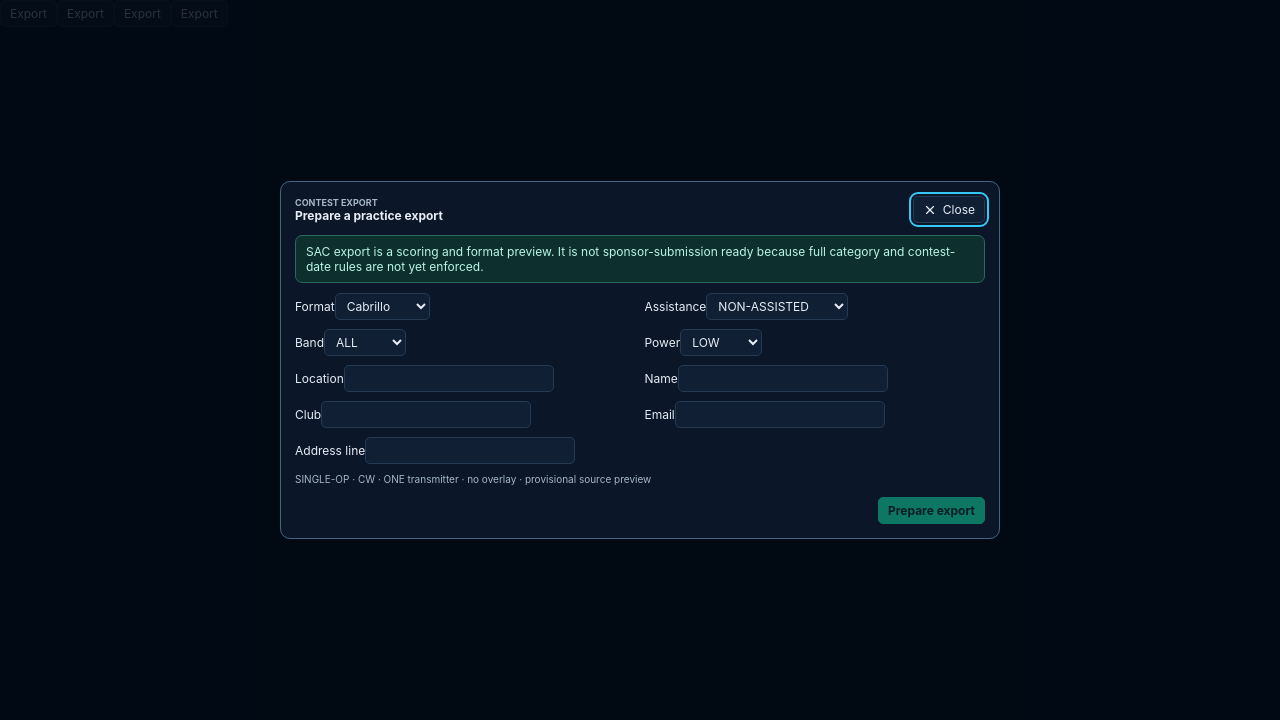
Test case: keeps SAC Cabrillo output visibly practice-only before and after preparation
Check: the heading "Prepare a practice export" is shown, box [295,208,443,222]
Check: the text "not sponsor-submission ready" is shown, box [306,244,955,274]
Type "DX" into the field labelled "Location" at (449, 378), box [344,365,554,392]
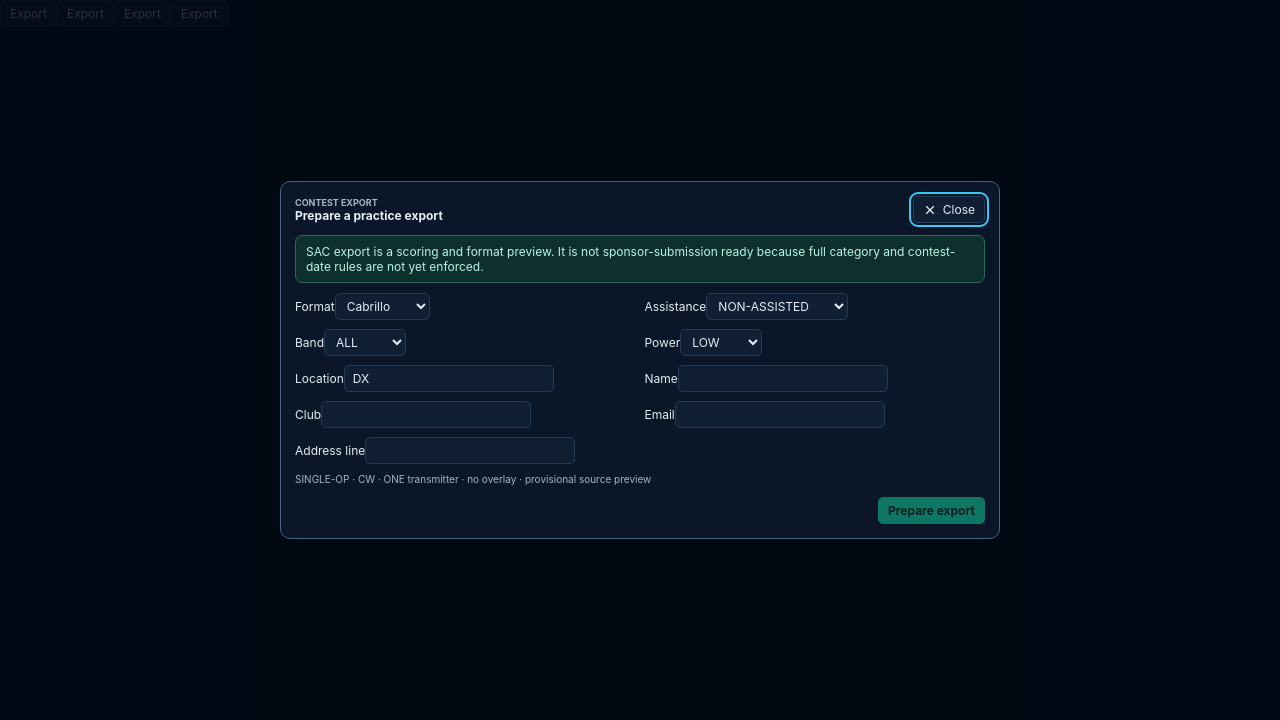
Type "Operator" into the field labelled "Name" at (783, 378), box [678,365,888,392]
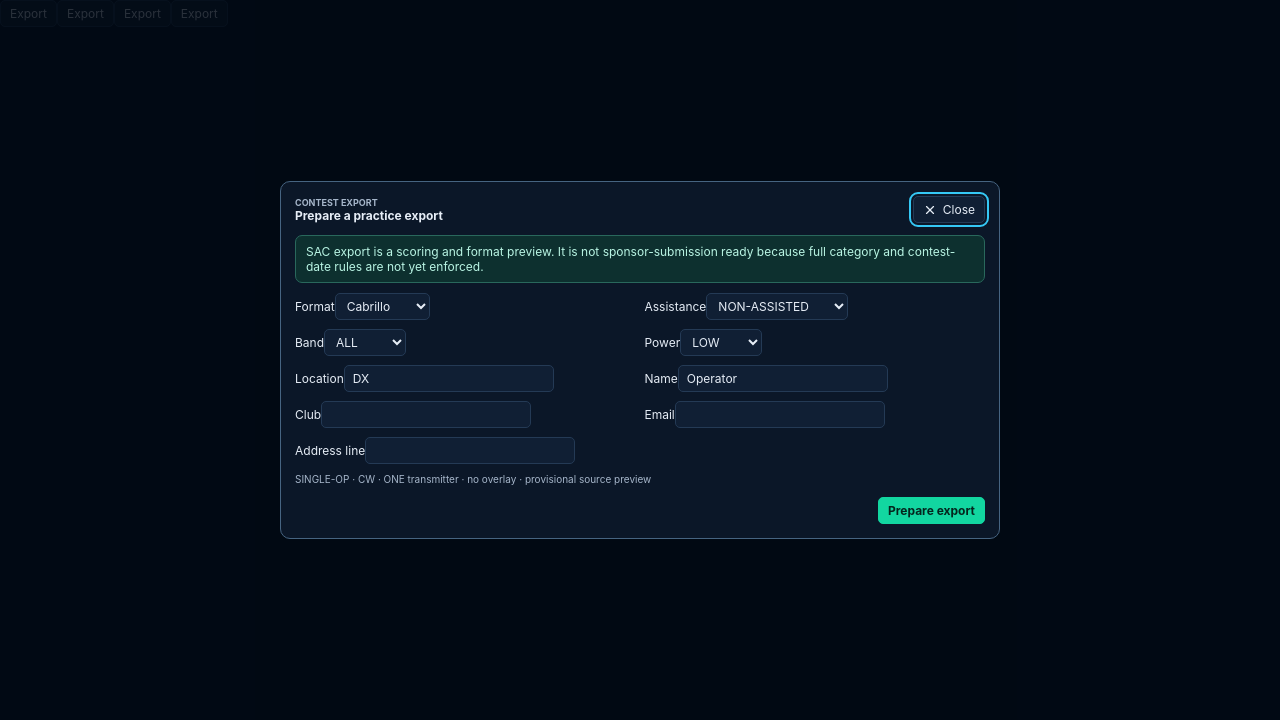
Click the button "Prepare export" at (931, 510), box [878,497,985,524]
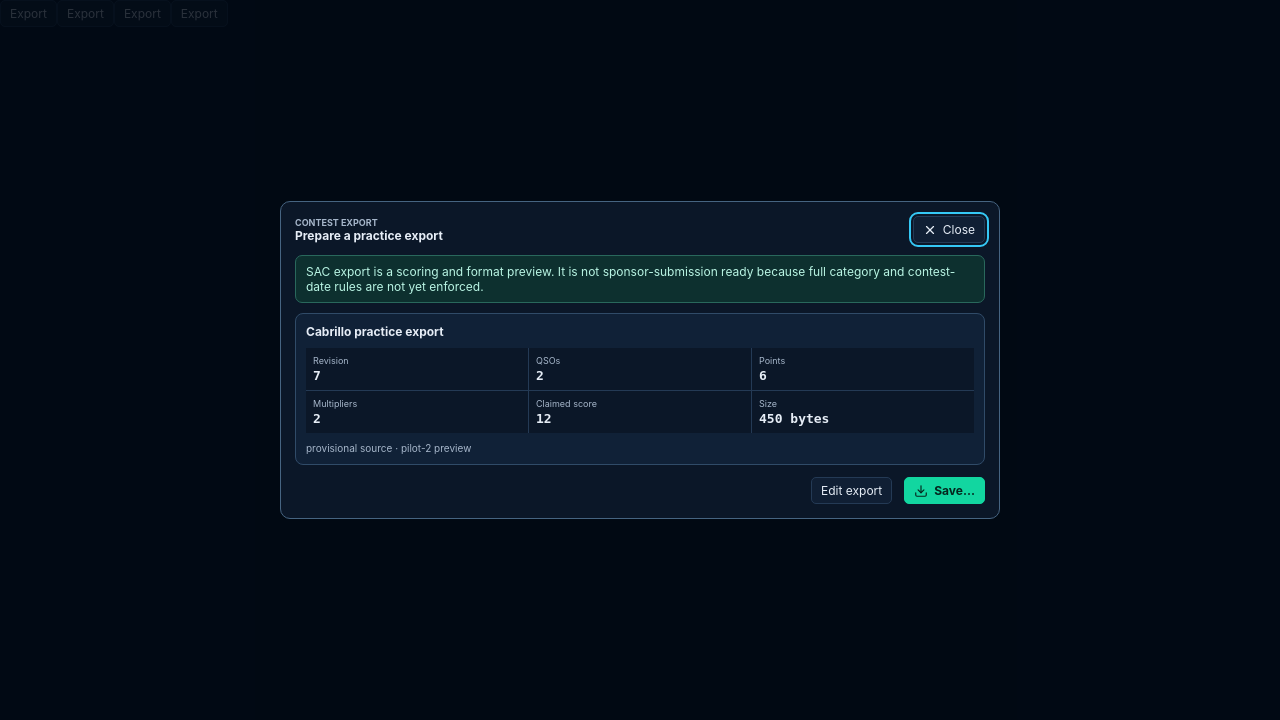
Check: the text "Cabrillo practice export" is shown, box [306,324,444,339]
